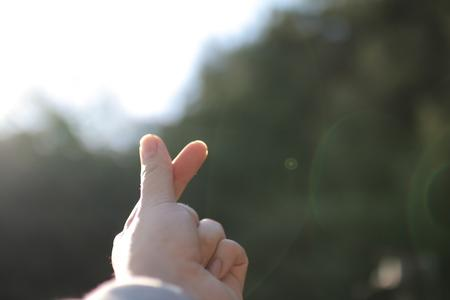heart gesture: (137, 131, 210, 196)
